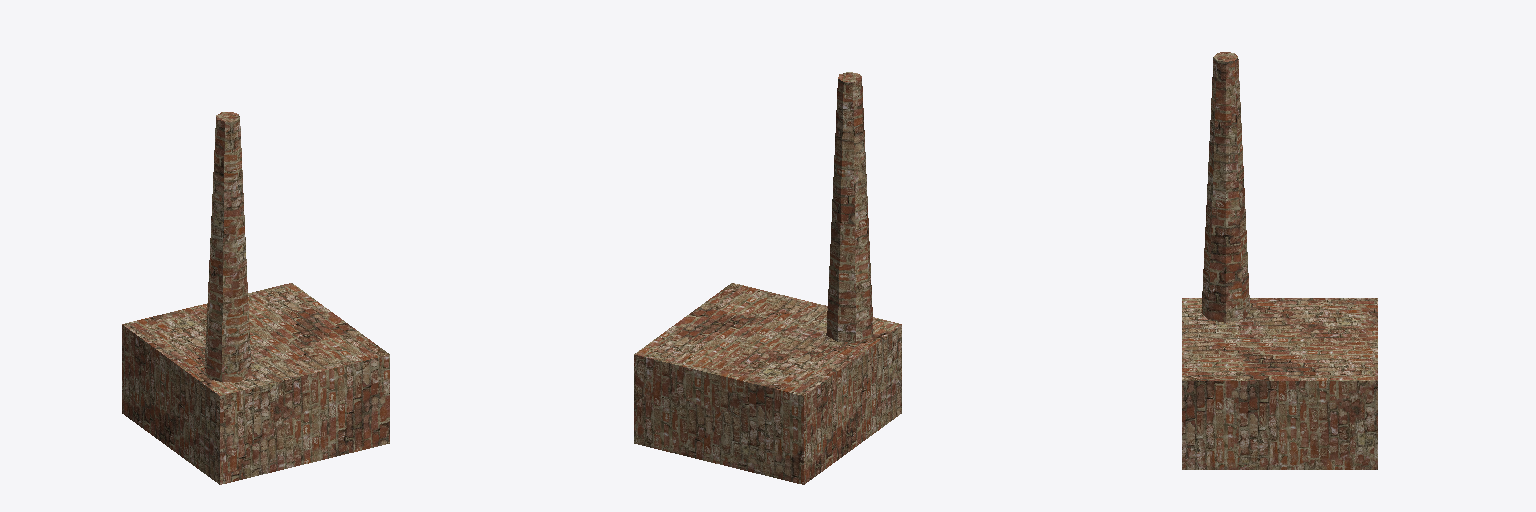
3 views of the same model, side by side, from view 1: azimuth 30°, elevation 25°; view 2: azimuth 150°, elevation 25°; view 3: azimuth 270°, elevation 25° (orthographic).
Visible parts, largest first — view 1: Cube; view 2: Cube; view 3: Cube.
Boxes of the visible parts, x1,y1,x2,y2 form: Cube: [122, 112, 389, 484]; Cube: [634, 72, 901, 484]; Cube: [1182, 52, 1377, 469].
Bounding box in the file's own units: 8 × 15.49 × 8.
Materials: 2 (1 with a texture image).